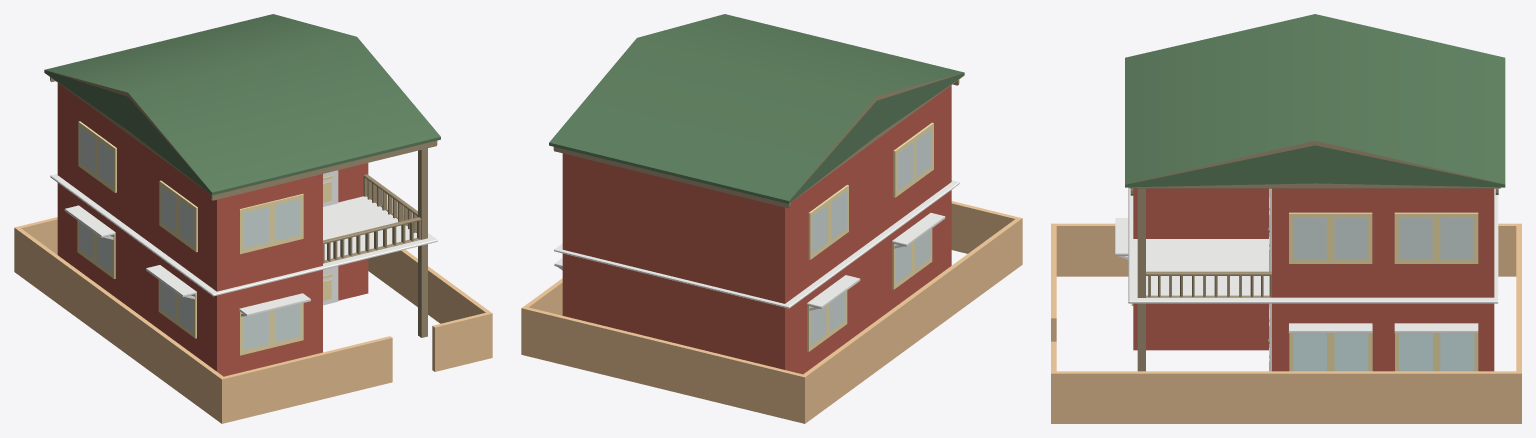
Rendered from House_01.fbx.
3 views of the same model, side by side, from view 1: azimuth 30°, elevation 25°; view 2: azimuth 150°, elevation 25°; view 3: azimuth 270°, elevation 25° (orthographic). The views are drawn at different scales.
Visible parts, largest first — view 1: polySurface1, pCube1, pCube55, pCube4, pCube43, pCube53, polySurface10 (×6), pCube3, pCube5, polySurface7 (×6), pCube57, pCube8 (+6 smaller); view 2: polySurface1, pCube3, pCube43, pCube56, pCube55, polySurface10 (×4), pCube1, pCube4, polySurface7 (×4), pCube5, pCube53, pCube40 (×2) (+3 smaller); view 3: polySurface1, pCube57, pCube3, polySurface10 (×4), pCube43, pCube5, pCube1, pCube4, polySurface7 (×4), pCube55, pCube40 (×3), polySurface2 (+5 smaller).
Boxes of the visible parts, left/top/right/bottom form: polySurface1: left=44, top=14, right=440, bottom=195; pCube1: left=155, top=234, right=322, bottom=376; pCube55: left=14, top=226, right=226, bottom=423; pCube4: left=155, top=154, right=322, bottom=279; pCube43: left=57, top=162, right=368, bottom=326; pCube53: left=220, top=336, right=392, bottom=423; polySurface10 (×6): left=79, top=127, right=300, bottom=350; pCube3: left=57, top=83, right=368, bottom=234; pCube5: left=50, top=174, right=437, bottom=296; polySurface7 (×6): left=77, top=121, right=303, bottom=355; pCube57: left=368, top=249, right=492, bottom=358; pCube8: left=323, top=174, right=421, bottom=263; polySurface1: left=549, top=14, right=964, bottom=203; pCube3: left=562, top=132, right=887, bottom=290; pCube43: left=562, top=215, right=887, bottom=374; pCube56: left=523, top=306, right=806, bottom=423; pCube55: left=801, top=218, right=1022, bottom=423; polySurface10 (×4): left=810, top=129, right=931, bottom=345; pCube1: left=887, top=169, right=951, bottom=311; pCube4: left=887, top=85, right=951, bottom=214; polySurface7 (×4): left=807, top=122, right=933, bottom=351; pCube5: left=554, top=180, right=959, bottom=308; pCube53: left=951, top=201, right=1020, bottom=253; pCube40 (×2): left=807, top=213, right=945, bottom=308; polySurface1: left=1125, top=14, right=1505, bottom=187; pCube57: left=1051, top=371, right=1521, bottom=423; pCube3: left=1272, top=188, right=1494, bottom=284; polySurface10 (×4): left=1293, top=218, right=1474, bottom=371; pCube43: left=1272, top=283, right=1494, bottom=371; pCube5: left=1128, top=187, right=1498, bottom=303; pCube1: left=1133, top=224, right=1268, bottom=350; pCube4: left=1133, top=188, right=1268, bottom=224; polySurface7 (×4): left=1289, top=212, right=1478, bottom=371; pCube55: left=1051, top=223, right=1521, bottom=276; pCube40 (×3): left=1115, top=218, right=1478, bottom=333; polySurface2: left=1125, top=140, right=1504, bottom=187.
Size of the model in its own units: 637 by 542 by 847.
